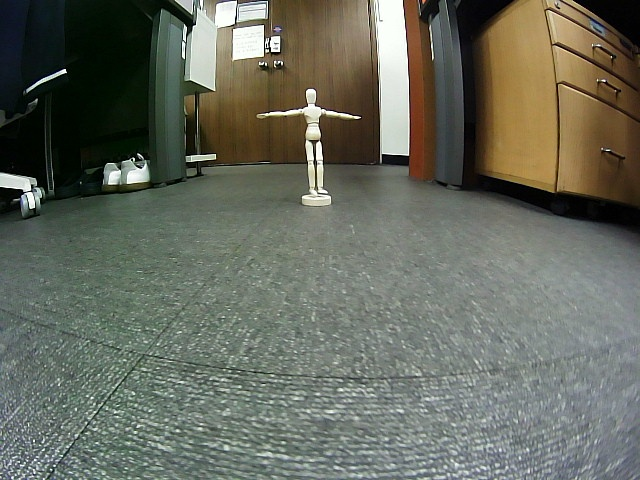person: (256, 88, 360, 195)
